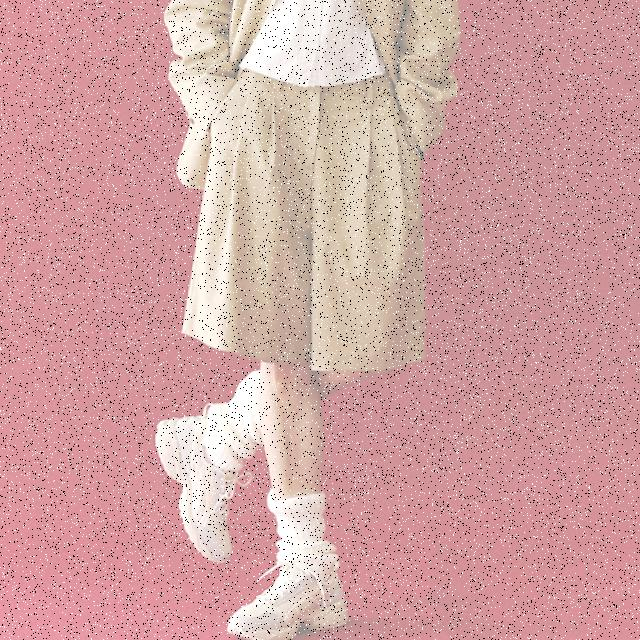Blouse_deep: (200, 63, 428, 346)
